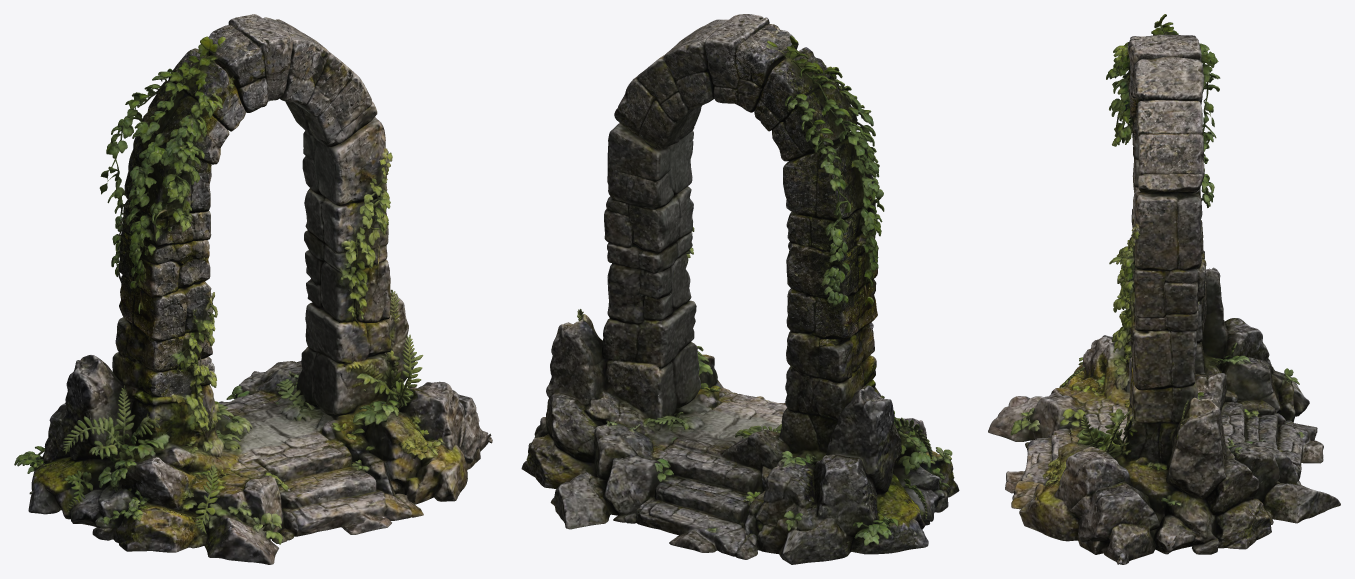
The model's file is intro-arch.glb.
3 views of the same model, side by side, from view 1: azimuth 30°, elevation 25°; view 2: azimuth 150°, elevation 25°; view 3: azimuth 270°, elevation 25° (orthographic). The views are drawn at different scales.
Visible parts, largest first — view 1: intro-arch; view 2: intro-arch; view 3: intro-arch.
Part boxes in pixels (x1,y1,x2,y2): intro-arch: [14, 14, 492, 564]; intro-arch: [521, 14, 959, 564]; intro-arch: [988, 14, 1340, 564].
Size of the model in its own units: 0.9476 by 0.9819 by 0.7277.
Materials: 1 (1 with a texture image).
